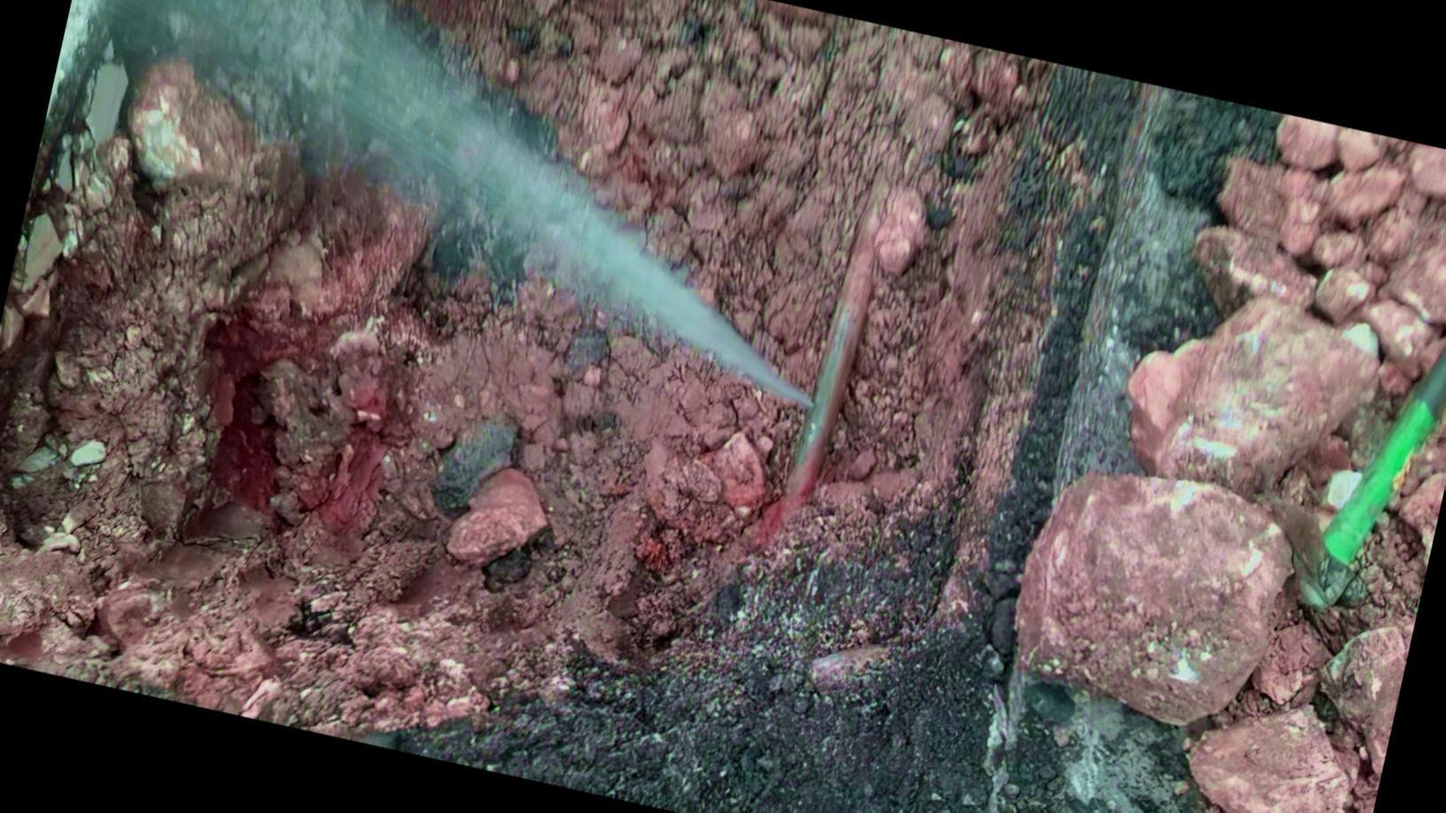pipe burst: (156, 0, 828, 422)
